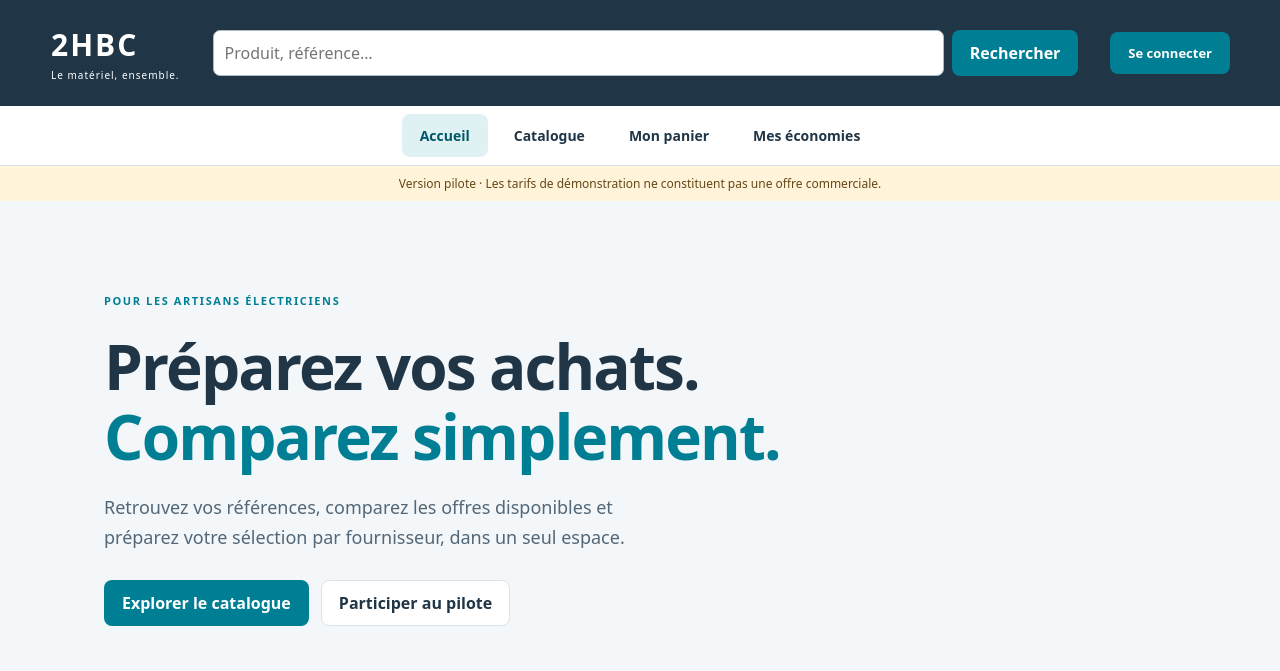
Test: Accueil et navigation vers le catalogue
The width and height of the screenshot is (1280, 671).
Expected: the heading "Préparez vos achats.Comparez simplement." is shown, [104,332,884,471]
Click the button "Explorer le catalogue" at (206, 603), box [104,580,309,626]
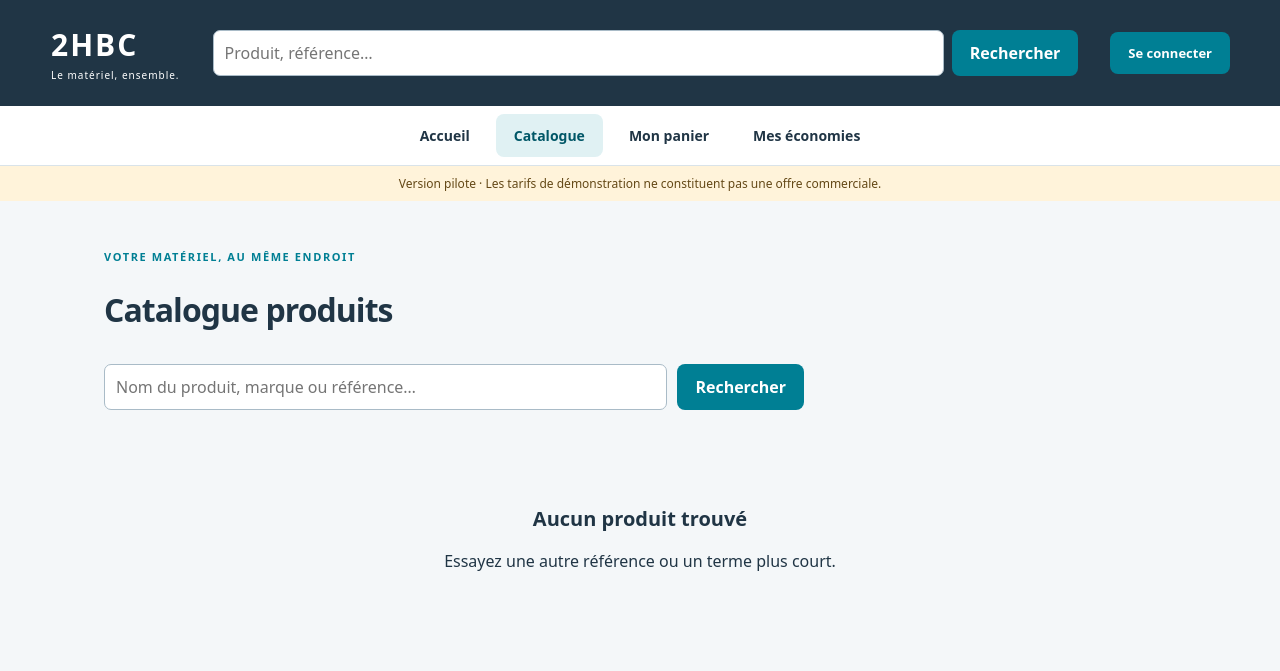
Expected: the heading "Aucun produit trouvé" is shown, [533,505,747,532]
